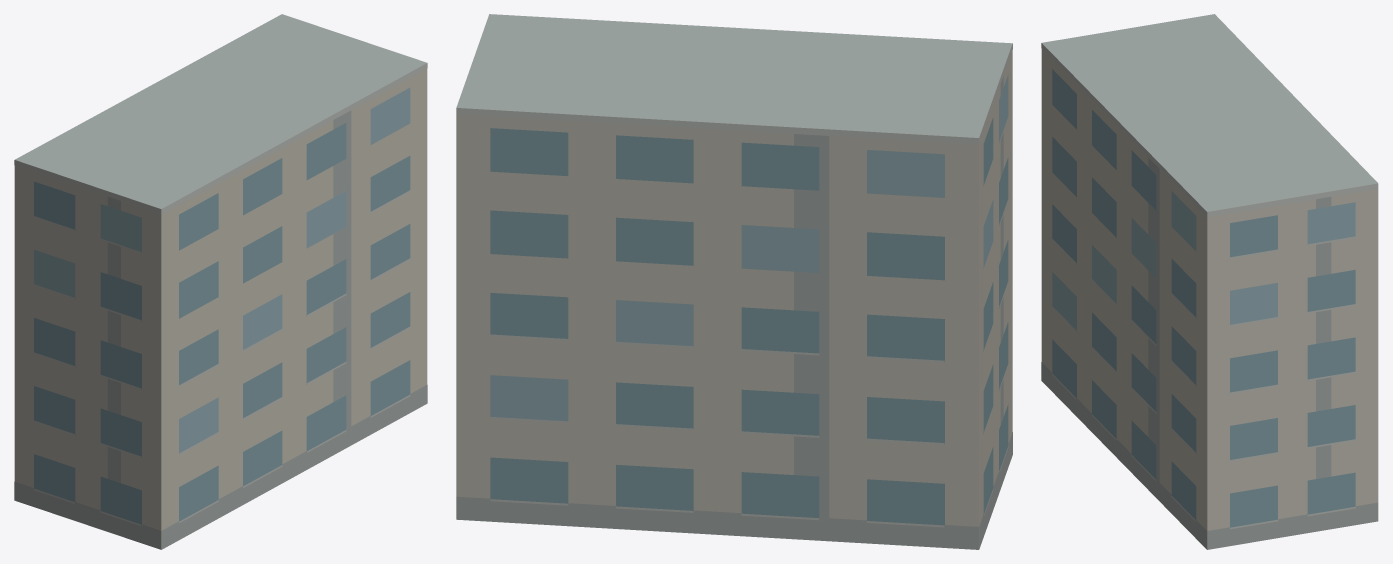
File: survey-upis-33046894.glb
3 renders of one model, left to right at view 1: azimuth 30°, elevation 25°; view 2: azimuth 150°, elevation 25°; view 3: azimuth 270°, elevation 25°, orthographic. The views are drawn at different scales.
Visible parts, largest first — view 1: survey-upis-33046894.tmp; view 2: survey-upis-33046894.tmp; view 3: survey-upis-33046894.tmp.
Part boxes in pixels (x1,y1,x2,y2): survey-upis-33046894.tmp: (14,14,427,549); survey-upis-33046894.tmp: (456,14,1012,549); survey-upis-33046894.tmp: (1041,14,1378,549).
Size of the model in its own units: 19.17 by 15.25 by 13.79.
